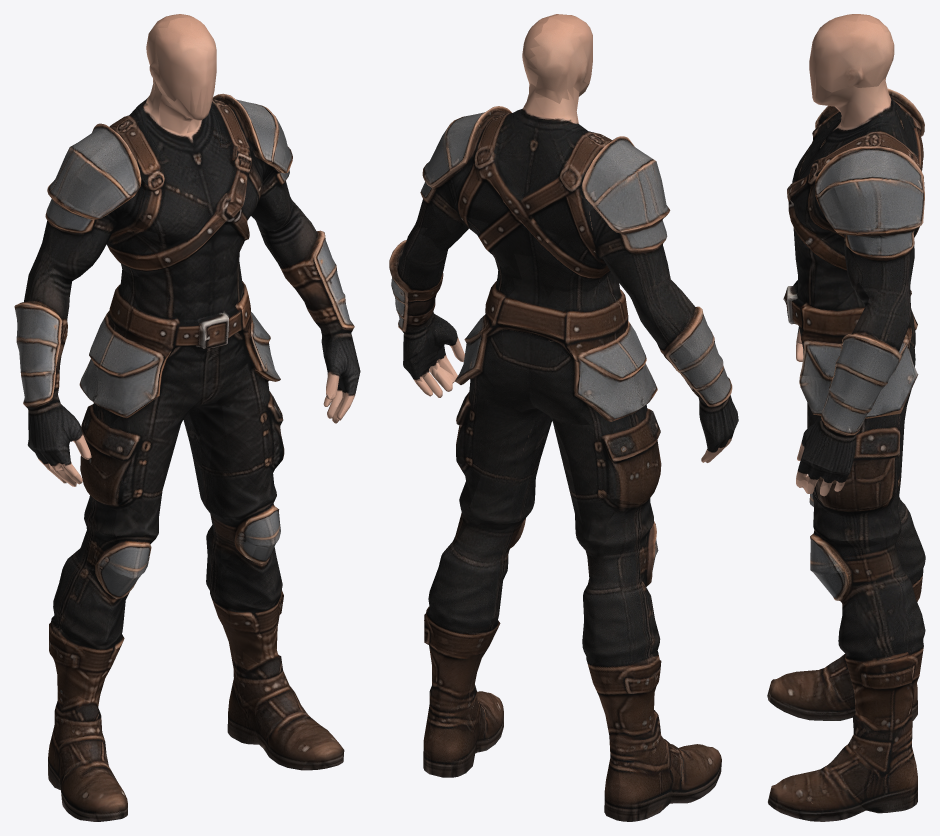
Rendered from Corpo_Masculino_Alto.glb.
The picture shows the model from 3 angles, left to right: view 1: azimuth 30°, elevation 25°; view 2: azimuth 150°, elevation 25°; view 3: azimuth 270°, elevation 25°; orthographic projection. The views are drawn at different scales.
Visible parts, largest first — view 1: Mesh_0; view 2: Mesh_0; view 3: Mesh_0.
Boxes of the visible parts, x1,y1,x2,y2 form: Mesh_0: [14, 14, 360, 821]; Mesh_0: [389, 14, 738, 821]; Mesh_0: [767, 14, 925, 821].
Size of the model in its own units: 0.8572 by 1.9 by 0.3669.
Materials: 1 (1 with a texture image).
